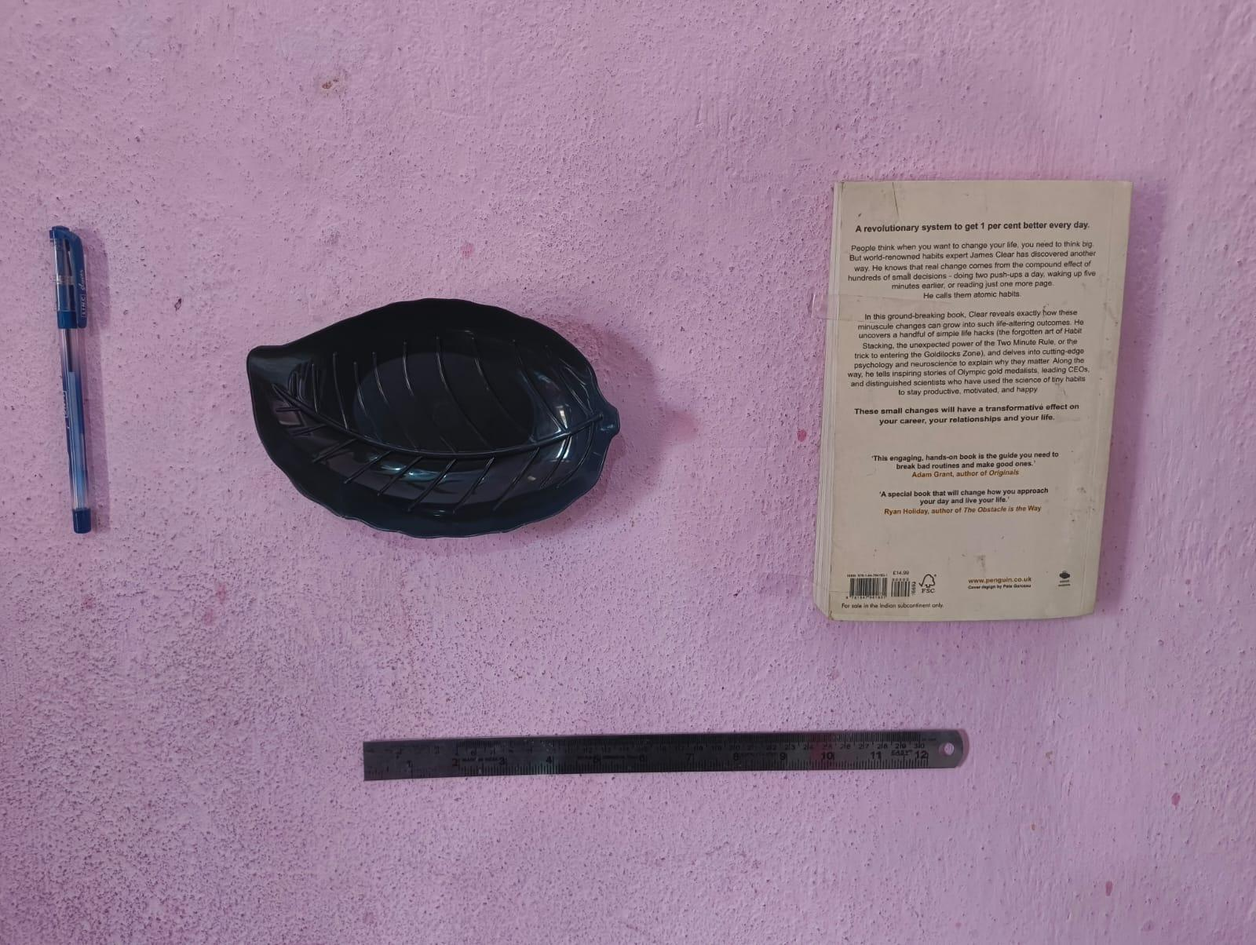Book: (798, 158, 1143, 648)
pen: (36, 213, 116, 552)
plate: (243, 285, 626, 544)
scale: (352, 712, 988, 792)
